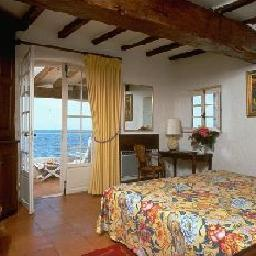Cama: (97, 171, 254, 247)
